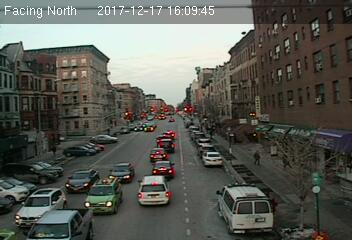car: (13, 187, 68, 229), (83, 179, 123, 214), (137, 173, 169, 206), (65, 167, 99, 196), (107, 162, 135, 183), (152, 159, 174, 179), (200, 150, 224, 168), (156, 138, 176, 155), (149, 147, 166, 163)
police: (217, 183, 276, 232)
